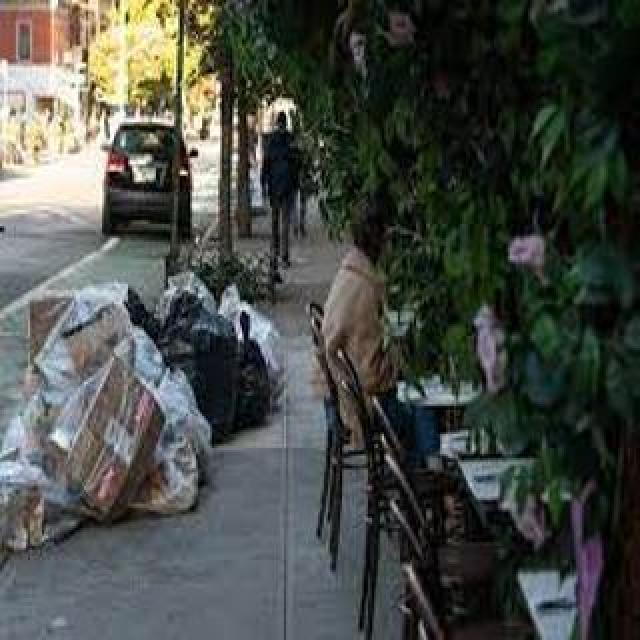Trashbag: (156, 288, 282, 447)
